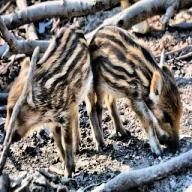boar: (0, 21, 95, 180), (85, 24, 182, 158)
